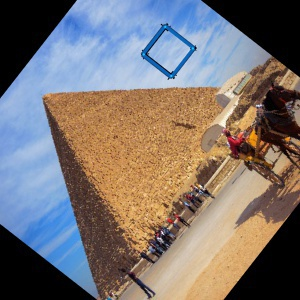square: (139, 23, 198, 81)
